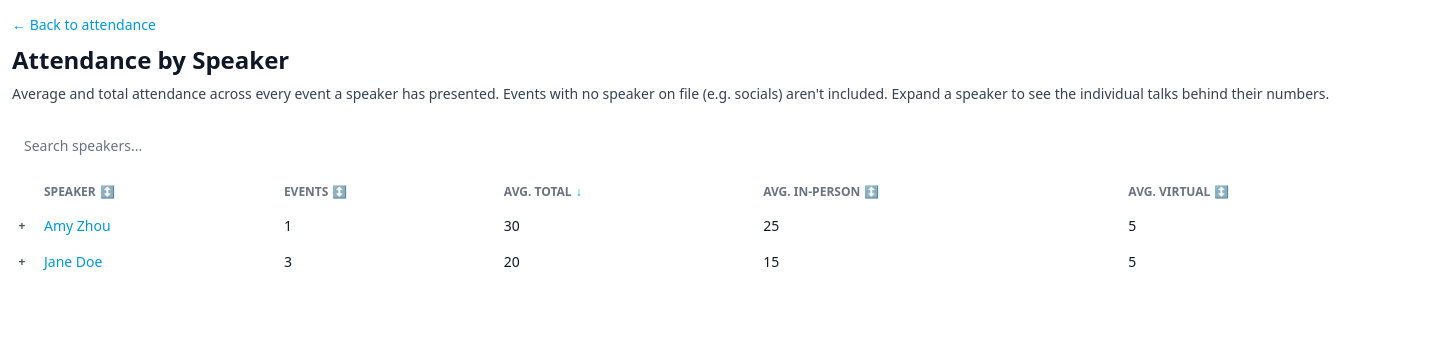
AttendanceBySpeakerPage › expands a speaker to show their individual talks, and collapses again
This screenshot has width=1452, height=357.
Expected: the table is shown, [12, 176, 1451, 280]
Expected: the text "January Talk" is not shown
What coordinates should you click on to do the following:
click the button named "Expand Jane Doe's talks"
I would click on:
 (22, 262)
Its box is [12, 252, 32, 272].
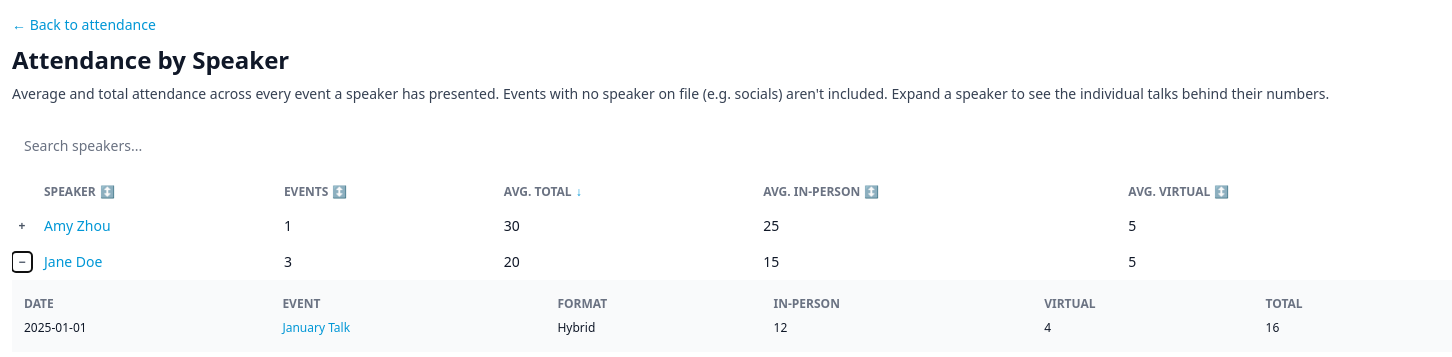
Result: the text "2025-01-01" is shown at [24, 316, 282, 340]
What coordinates should you click on to do the following:
click the button named "Collapse Jane Doe's talks"
I would click on:
 (22, 262)
Its box is [12, 252, 32, 272].
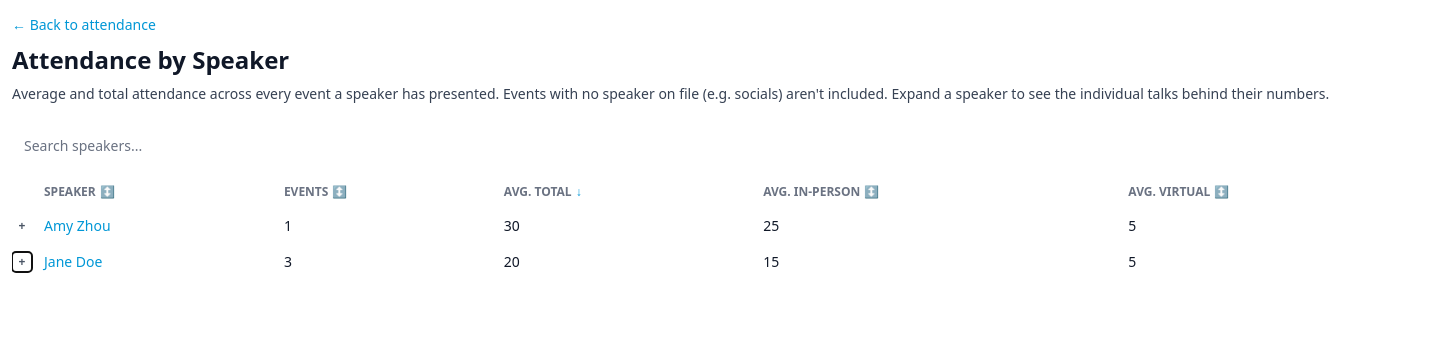
Result: the link "January Talk" is gone
